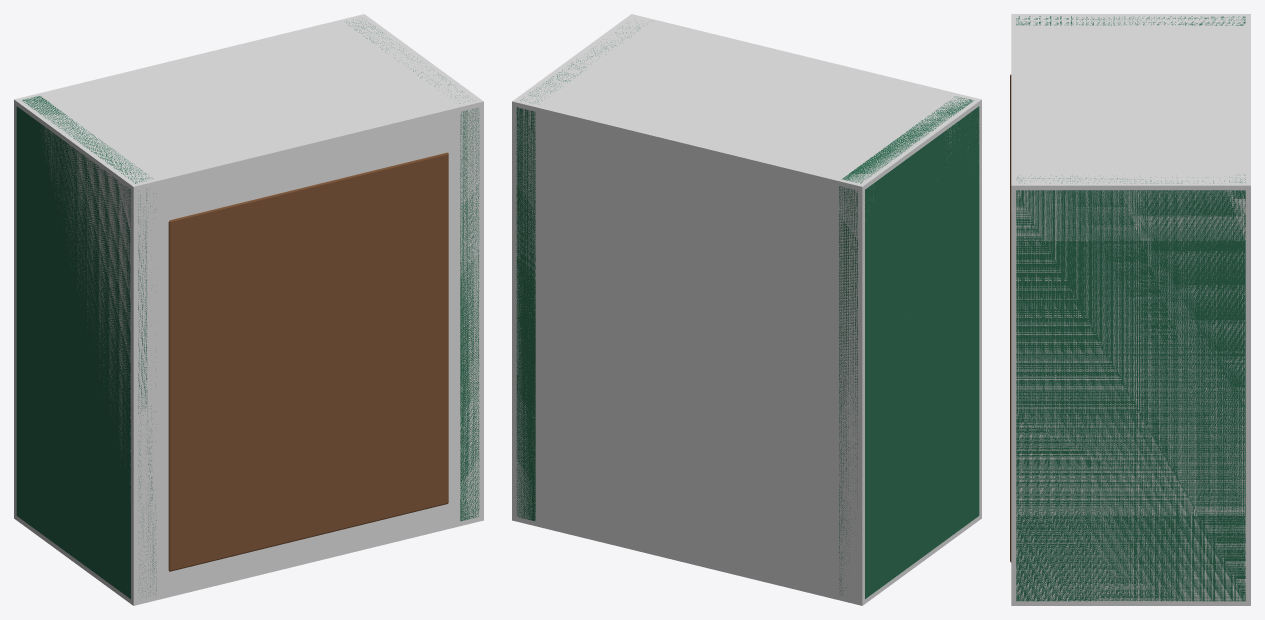
File: restroom-stall_luxury.glb
3 views of the same model, side by side, from view 1: azimuth 30°, elevation 25°; view 2: azimuth 150°, elevation 25°; view 3: azimuth 270°, elevation 25° (orthographic).
Visible parts, largest first — view 1: COL_restroom-stall, MESH_StallDoor, MESH_Partition, MESH_Partition.001; view 2: COL_restroom-stall, MESH_Partition, MESH_Partition.001; view 3: COL_restroom-stall, MESH_Partition.001, MESH_StallDoor, MESH_Partition.
Boxes of the visible parts, x1,y1,x2,y2 form: COL_restroom-stall: [14, 14, 483, 605]; MESH_StallDoor: [168, 152, 448, 571]; MESH_Partition: [16, 96, 156, 598]; MESH_Partition.001: [346, 18, 479, 521]; COL_restroom-stall: [512, 14, 981, 605]; MESH_Partition: [839, 96, 979, 598]; MESH_Partition.001: [516, 25, 643, 521]; COL_restroom-stall: [1011, 14, 1250, 605]; MESH_Partition.001: [1016, 174, 1245, 601]; MESH_StallDoor: [1010, 74, 1011, 562]; MESH_Partition: [1016, 16, 1245, 25].
Size of the model in its own units: 1.05 by 1.2 by 0.6231.
